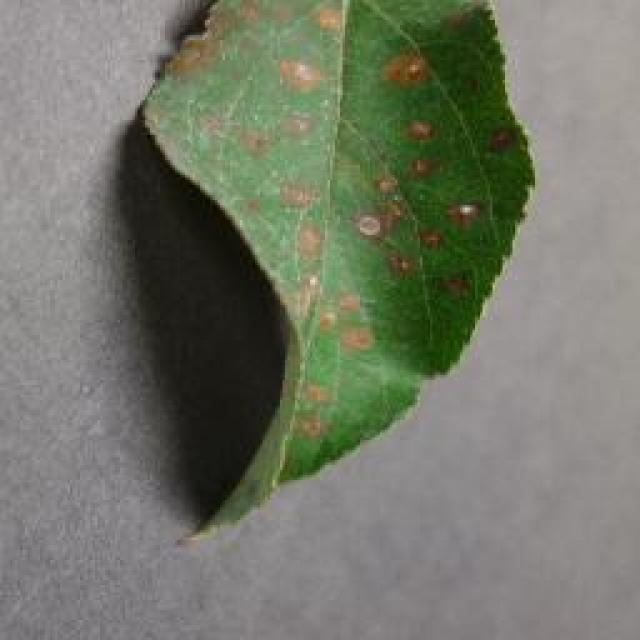apple cedar apple rust: (127, 0, 537, 542)
